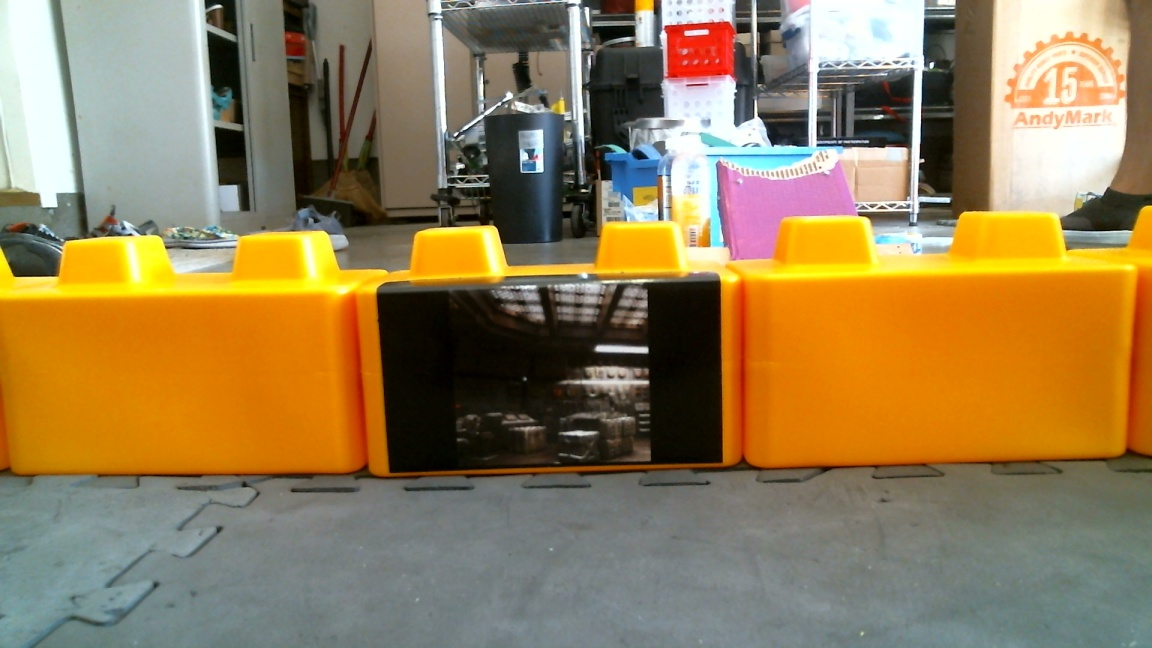center: (1, 225, 1131, 502)
